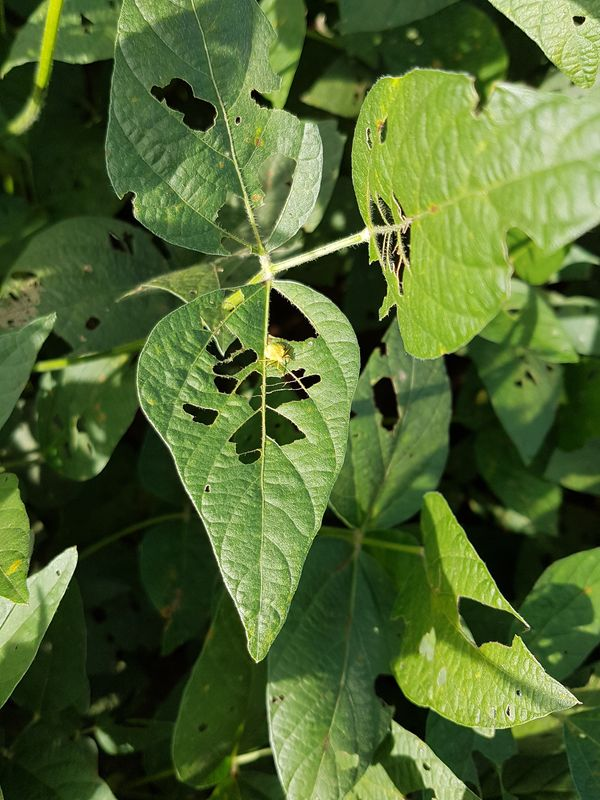Euschistus_heros_ninfa: (257, 334, 298, 375)
